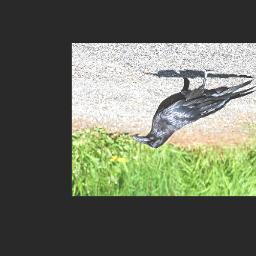Crow: (133, 66, 256, 149)
